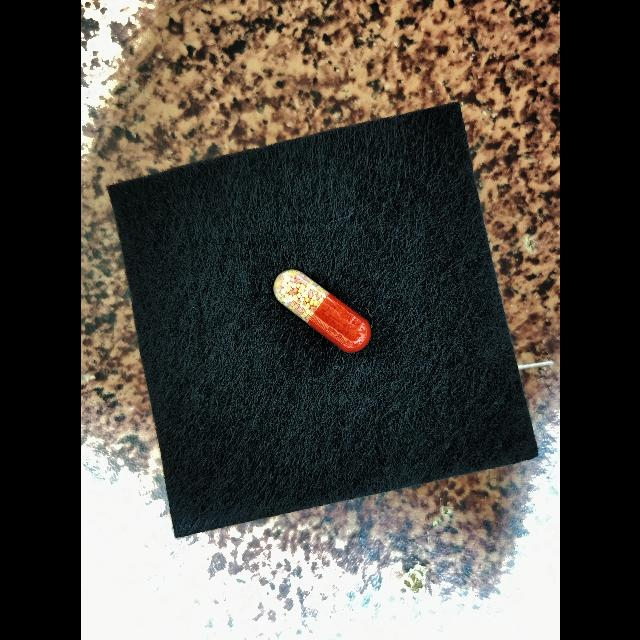Intact Capsule: (273, 269, 371, 353)
